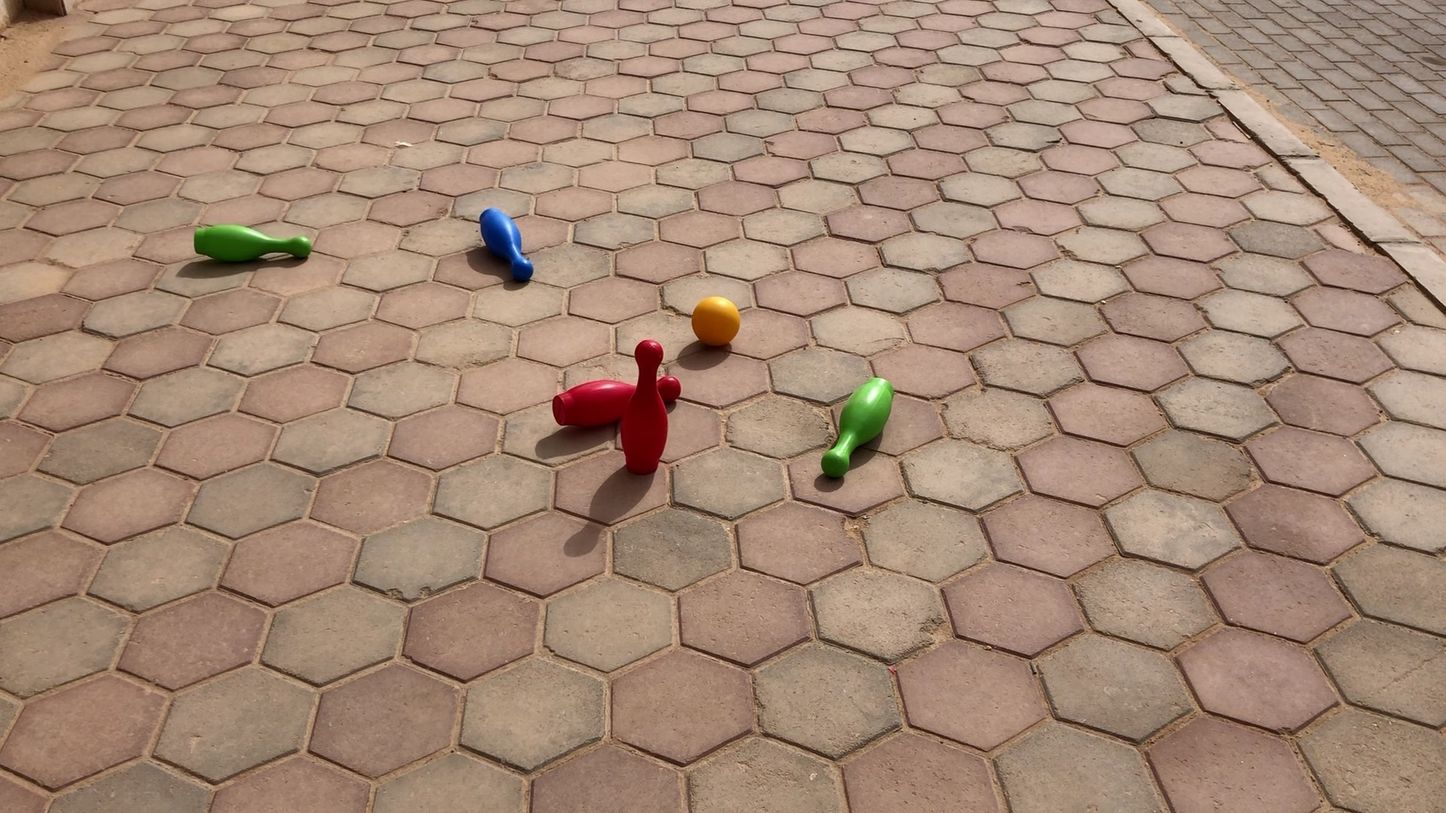pin: (619, 340, 679, 472), (822, 379, 890, 477), (554, 377, 682, 428), (194, 224, 312, 265), (479, 209, 535, 282)
